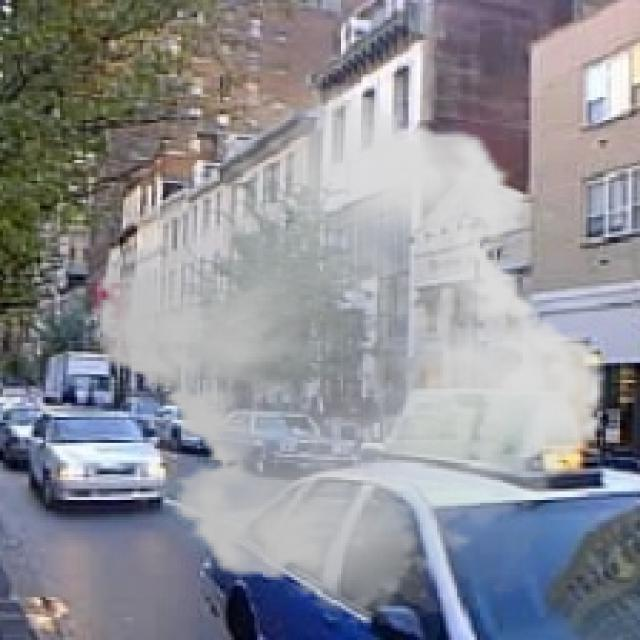smoke: (74, 83, 626, 626)
